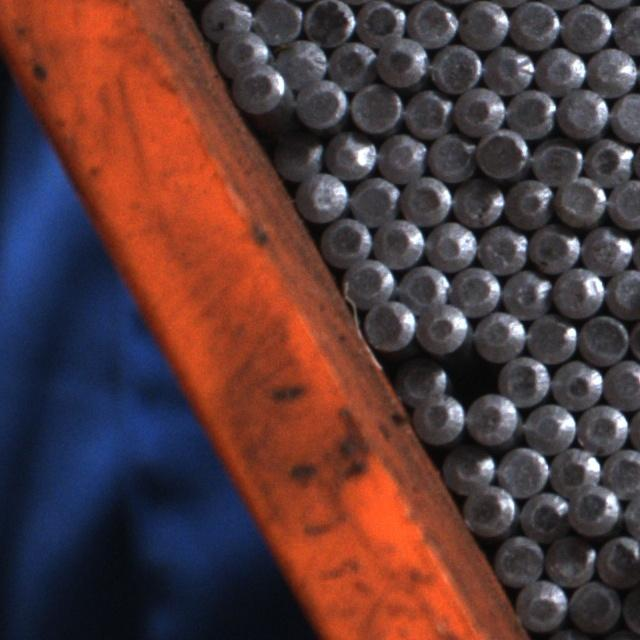tool: (230, 62, 286, 116), (362, 297, 417, 351), (465, 392, 518, 445), (295, 77, 348, 130), (576, 310, 628, 364), (429, 42, 482, 94), (348, 80, 401, 132), (416, 303, 468, 356), (463, 485, 515, 538), (569, 578, 620, 632), (524, 400, 576, 452), (554, 176, 606, 228), (476, 128, 528, 180), (473, 309, 525, 361), (492, 534, 544, 586), (547, 444, 599, 496), (440, 444, 492, 496), (526, 223, 579, 274), (515, 578, 568, 629), (395, 260, 449, 310), (550, 358, 602, 409), (556, 86, 608, 137), (524, 312, 576, 363), (543, 533, 594, 585), (552, 266, 604, 317), (452, 176, 504, 227), (412, 392, 464, 443), (341, 256, 392, 308), (215, 24, 269, 73), (498, 354, 549, 405), (497, 444, 548, 495), (505, 86, 556, 137), (297, 170, 348, 221), (568, 486, 619, 537), (400, 174, 450, 226), (452, 85, 504, 135), (270, 130, 322, 180), (577, 402, 627, 453), (500, 268, 551, 318), (373, 217, 423, 268), (450, 264, 500, 315), (376, 38, 427, 88), (517, 489, 567, 540), (582, 134, 633, 184), (402, 86, 451, 138), (324, 130, 376, 179), (426, 131, 476, 181), (580, 226, 630, 276), (484, 44, 534, 94), (396, 355, 446, 405), (277, 36, 327, 86), (477, 224, 526, 275), (320, 214, 369, 265), (349, 175, 398, 225), (426, 220, 476, 269), (326, 38, 375, 88), (531, 137, 582, 185), (561, 2, 610, 51), (588, 46, 637, 95), (510, 0, 559, 49), (505, 176, 553, 226), (458, 0, 508, 48), (535, 46, 585, 94), (408, 0, 457, 48), (378, 131, 426, 180), (357, 0, 407, 47), (594, 533, 640, 584), (252, 0, 302, 44), (310, 0, 360, 44), (201, 0, 253, 42), (601, 446, 640, 496), (603, 357, 640, 408), (606, 176, 640, 228), (605, 266, 640, 316), (611, 92, 640, 142), (612, 2, 640, 52)
